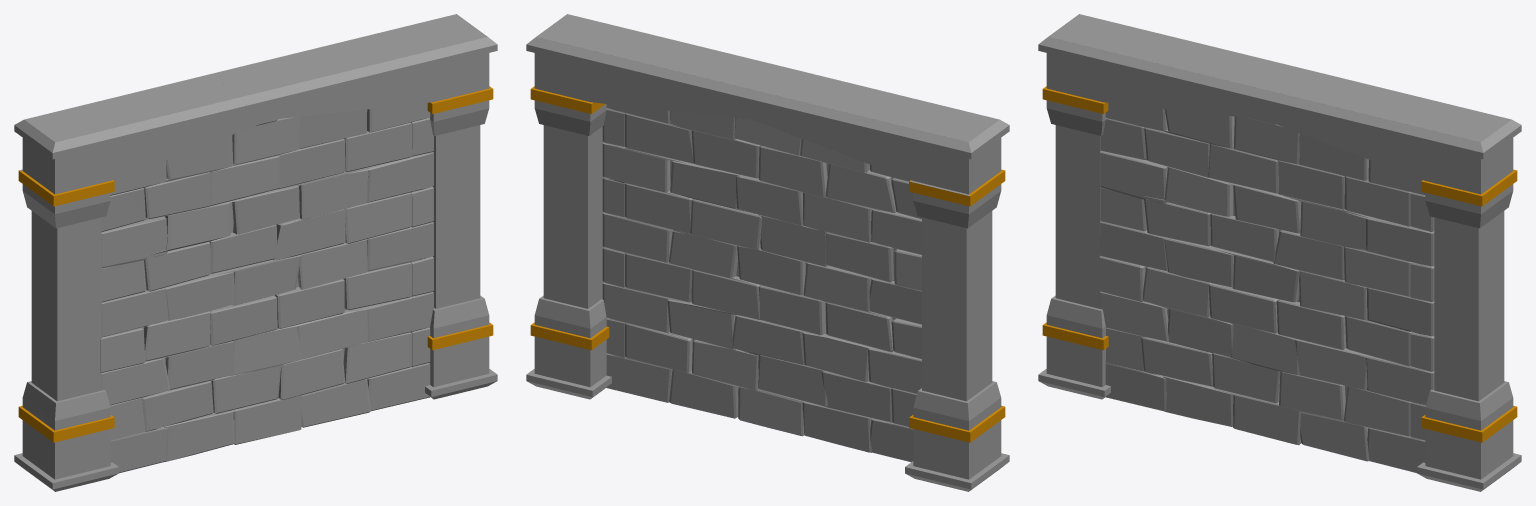
File: ParedPilarLaberinto.fbx
3 views of the same model, side by side, from view 1: azimuth 30°, elevation 25°; view 2: azimuth 150°, elevation 25°; view 3: azimuth 330°, elevation 25° (orthographic).
Parts seen in each view (by area): view 1: WallGateJoined; view 2: WallGateJoined; view 3: WallGateJoined.
Boxes of the visible parts, x1,y1,x2,y2 form: WallGateJoined: (14,14,497,491); WallGateJoined: (526,14,1009,491); WallGateJoined: (1038,14,1521,491).
Size of the model in its own units: 400 by 300 by 59.76.
